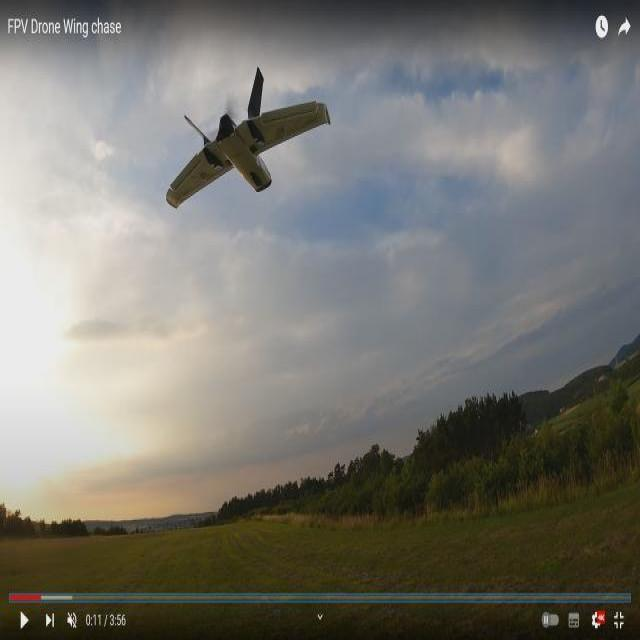iha: (146, 55, 343, 209)
